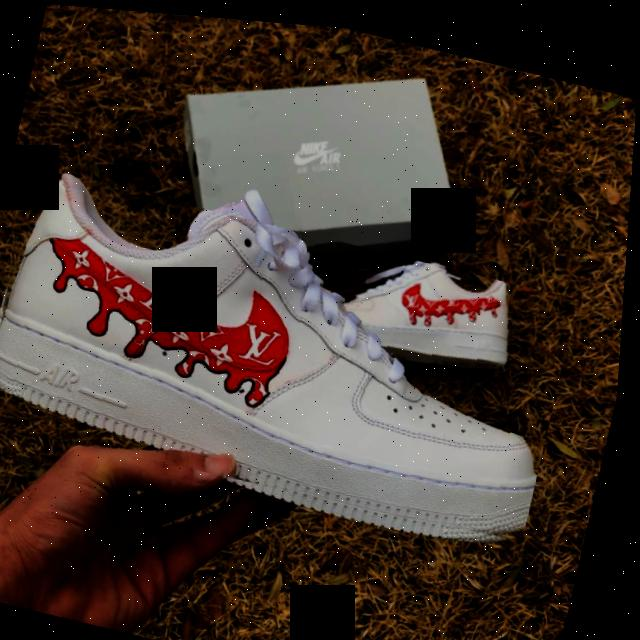shoe: (0, 163, 585, 547), (342, 241, 527, 377)
